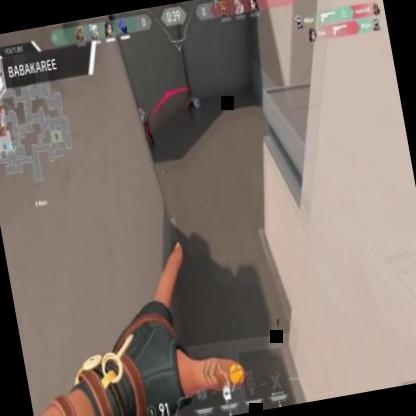enemy: (135, 104, 155, 150)
enemy_head: (138, 107, 142, 116)
